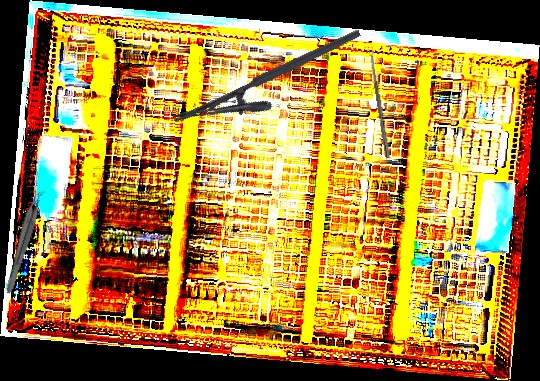Needle Holder: (171, 28, 374, 149)
Surgical Spoon: (368, 48, 391, 159)
Tissue Forceps: (4, 188, 46, 296)
